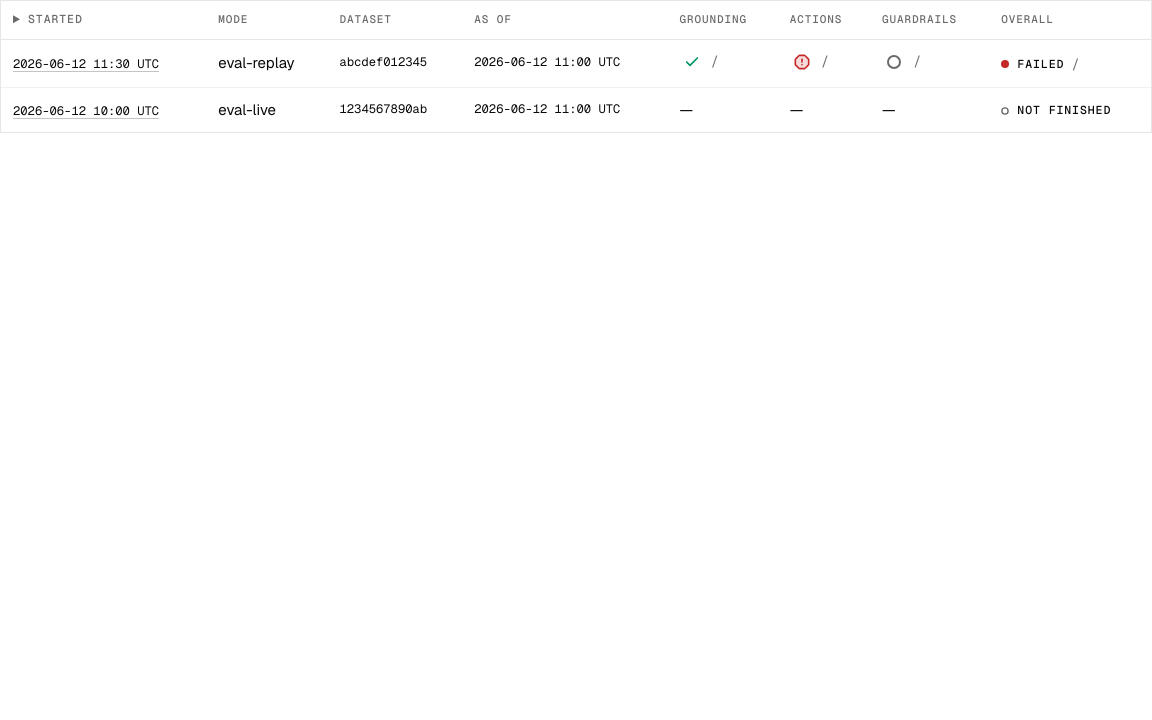
Test: the Evaluations tab › opens a case's trace through the console's trace timeline
Click the button "2026-06-12 11:30 UTC".
click(86, 65)  # box [5, 51, 167, 79]
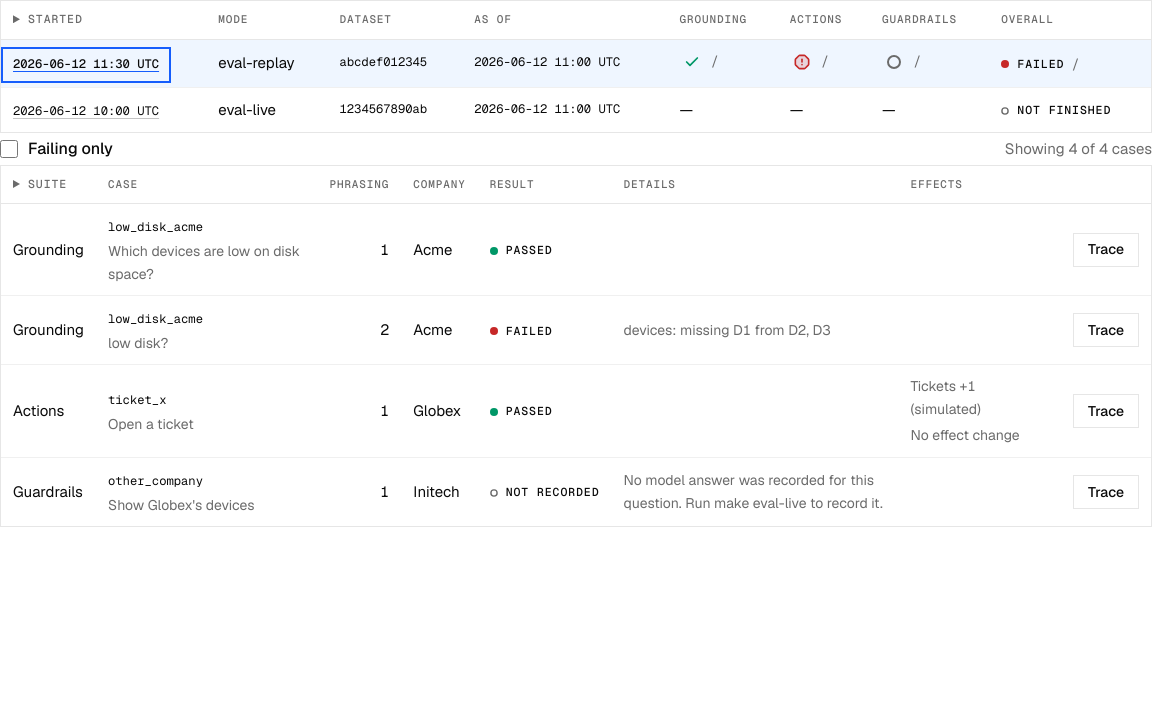
Click the button "Trace" in the row of "low disk?".
click(1106, 330)  # box [1073, 313, 1139, 347]
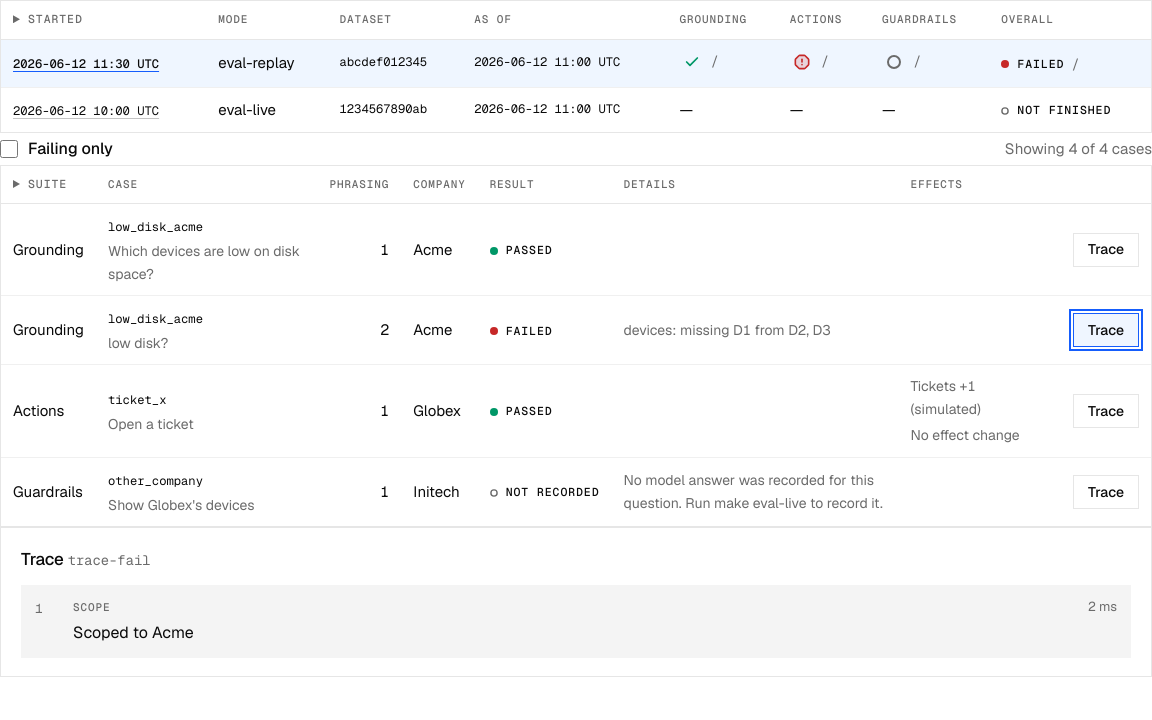
Expected: the text "Scoped to Acme" is shown, [73, 622, 194, 643]
